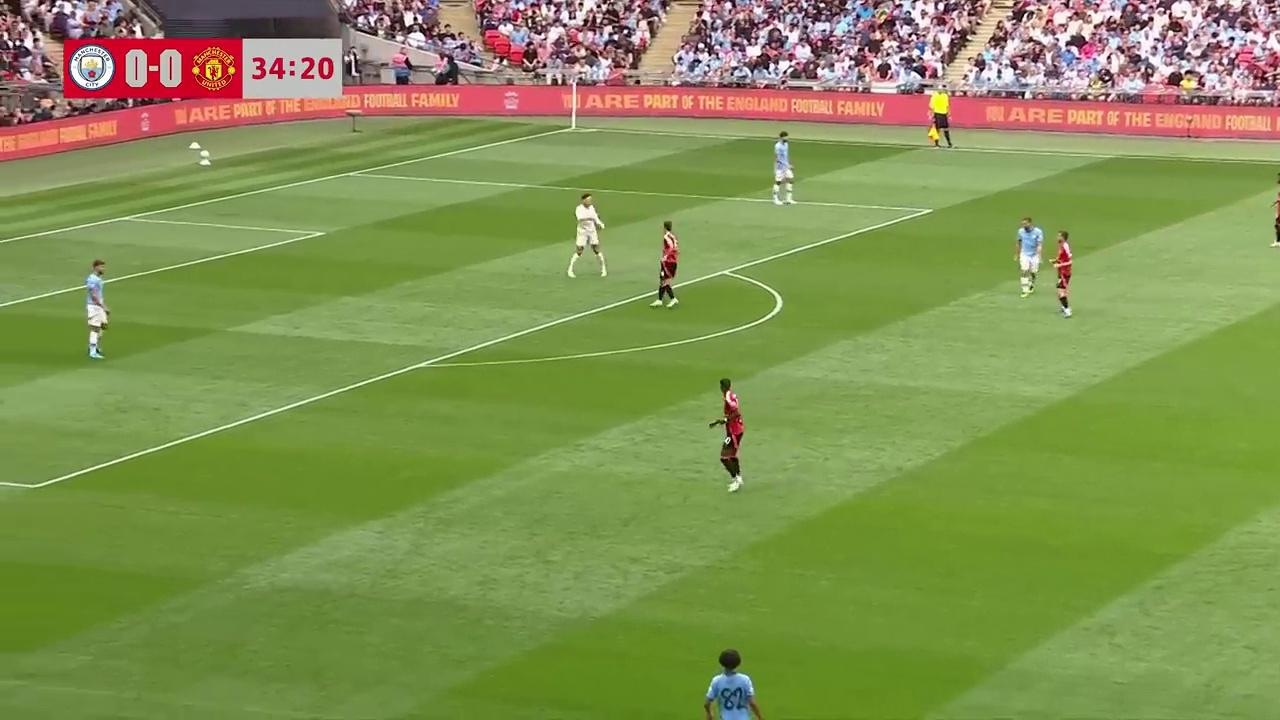player: (700, 651, 762, 720), (710, 378, 745, 492), (566, 193, 607, 278), (84, 258, 110, 363), (651, 221, 679, 308), (1014, 216, 1042, 296), (1050, 230, 1072, 317), (772, 130, 795, 205), (1270, 179, 1280, 249)
referee: (928, 90, 955, 150)
